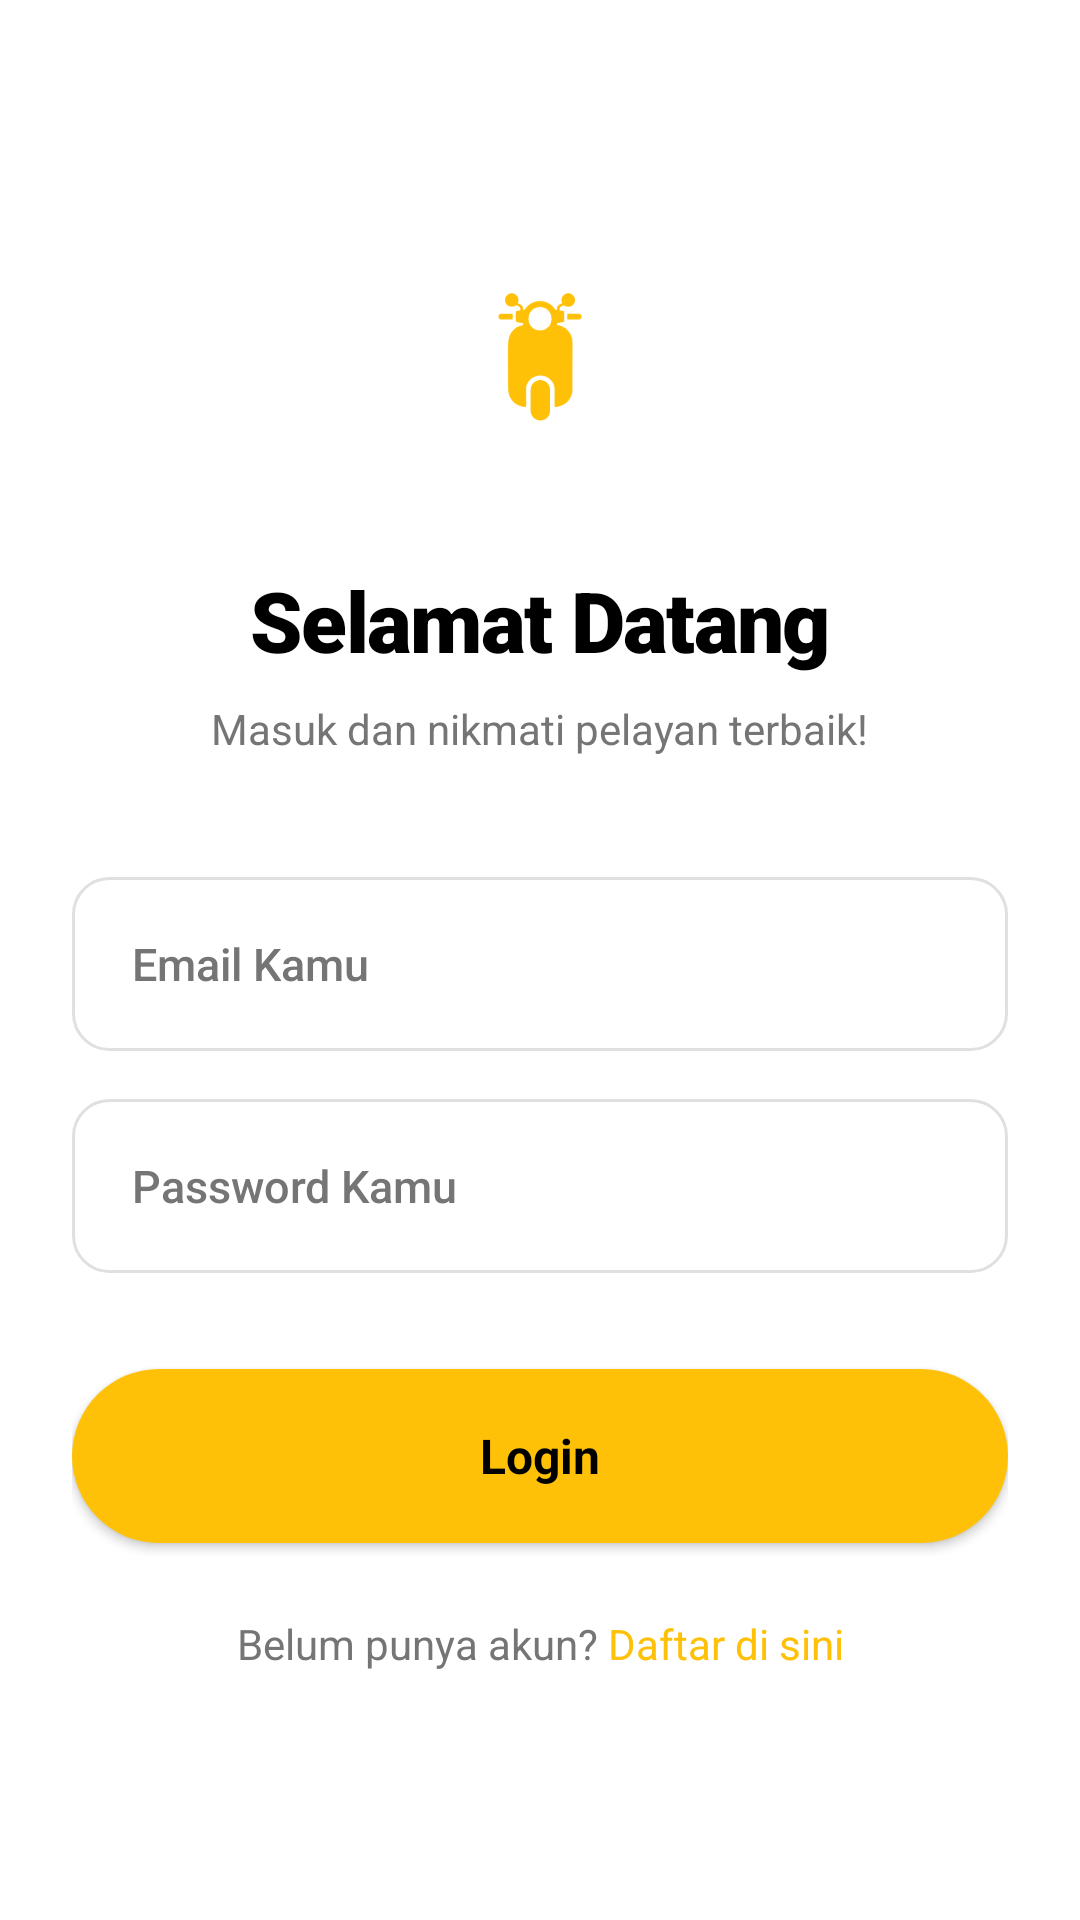

Screen size 1080 × 1920. Icon name, then its center in pixels as (x=x, y=y):
motor baru: (x=540, y=357)
